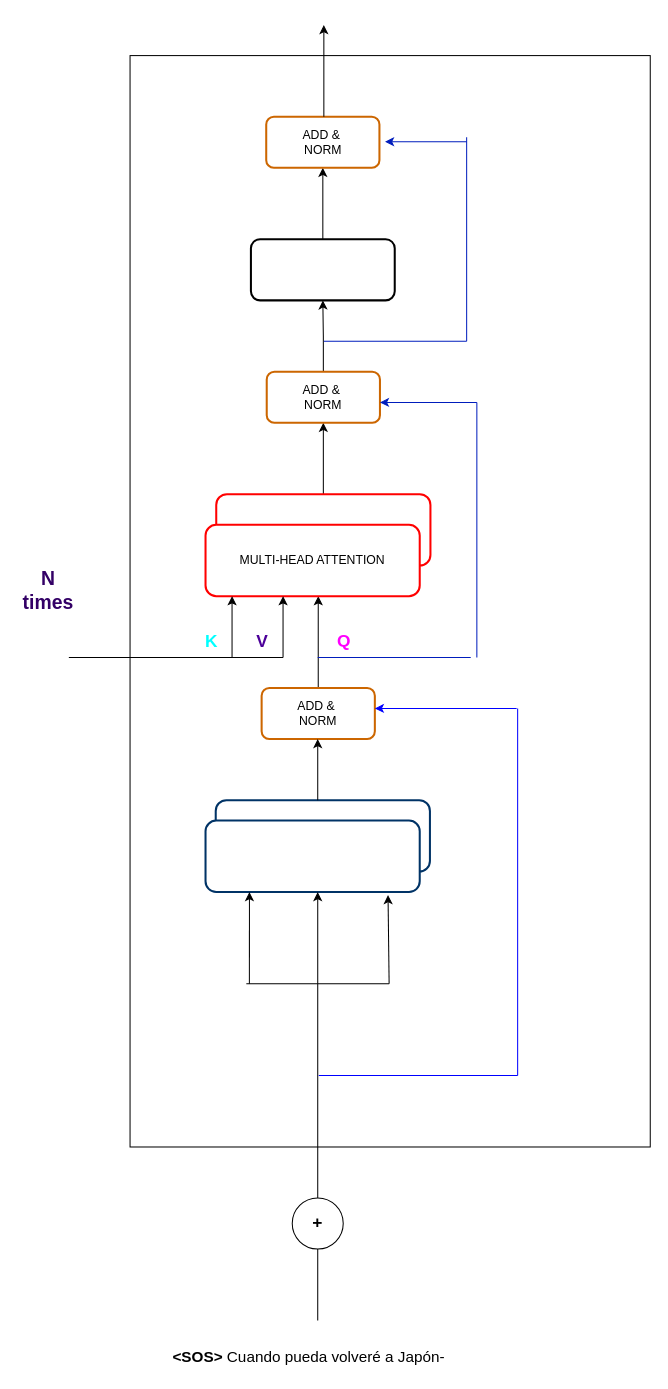
The diagram is 668 pixels wide and 1389 high, and some of its shapes have lost their labels. Here are the shapes that lost their labels. From the top down, the centre of each, then its label:
At [322,269]: "FEED FORWARD NEURAL NETWORK".
At [312,855]: "MASKED MULTI-HEAD ATTENTION".
